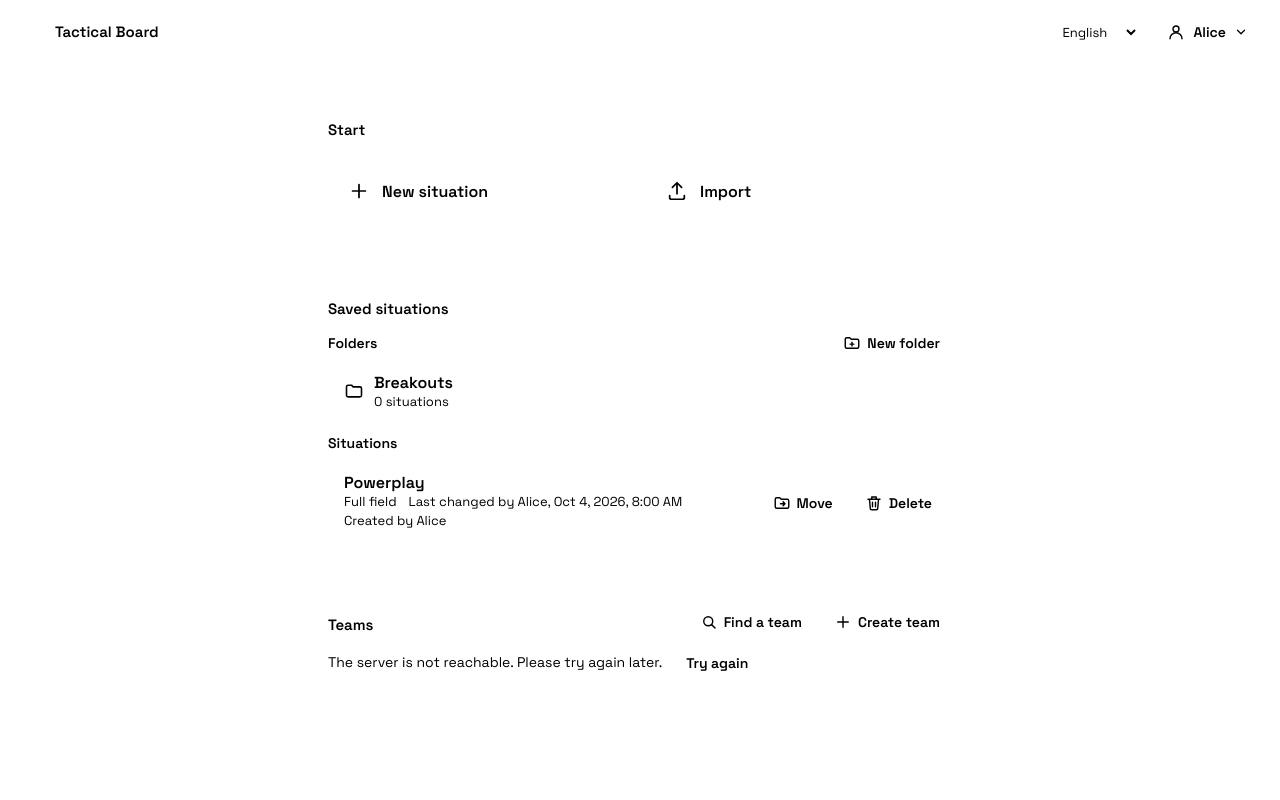
Test: start page › saved situations › moves a top-level situation into a folder with Move
Click the button with aria-label "Move “Powerplay”": [803, 502] box x1=760 y1=494 x2=845 y2=512
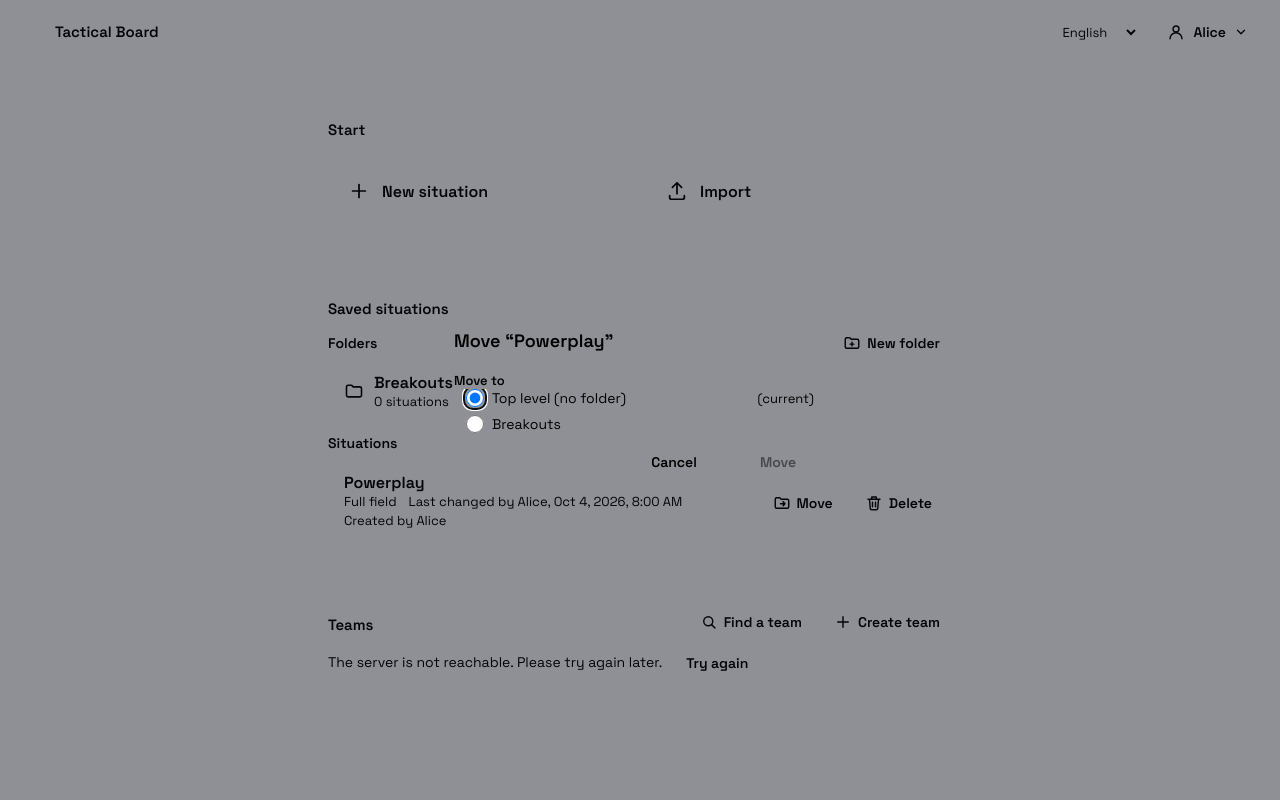
Expected: the radio button labelled "Top level (no folder) (current)" is checked, x1=466 y1=389 x2=484 y2=407
Click the radio button labelled "Breakouts": [475, 424] box x1=466 y1=415 x2=484 y2=433
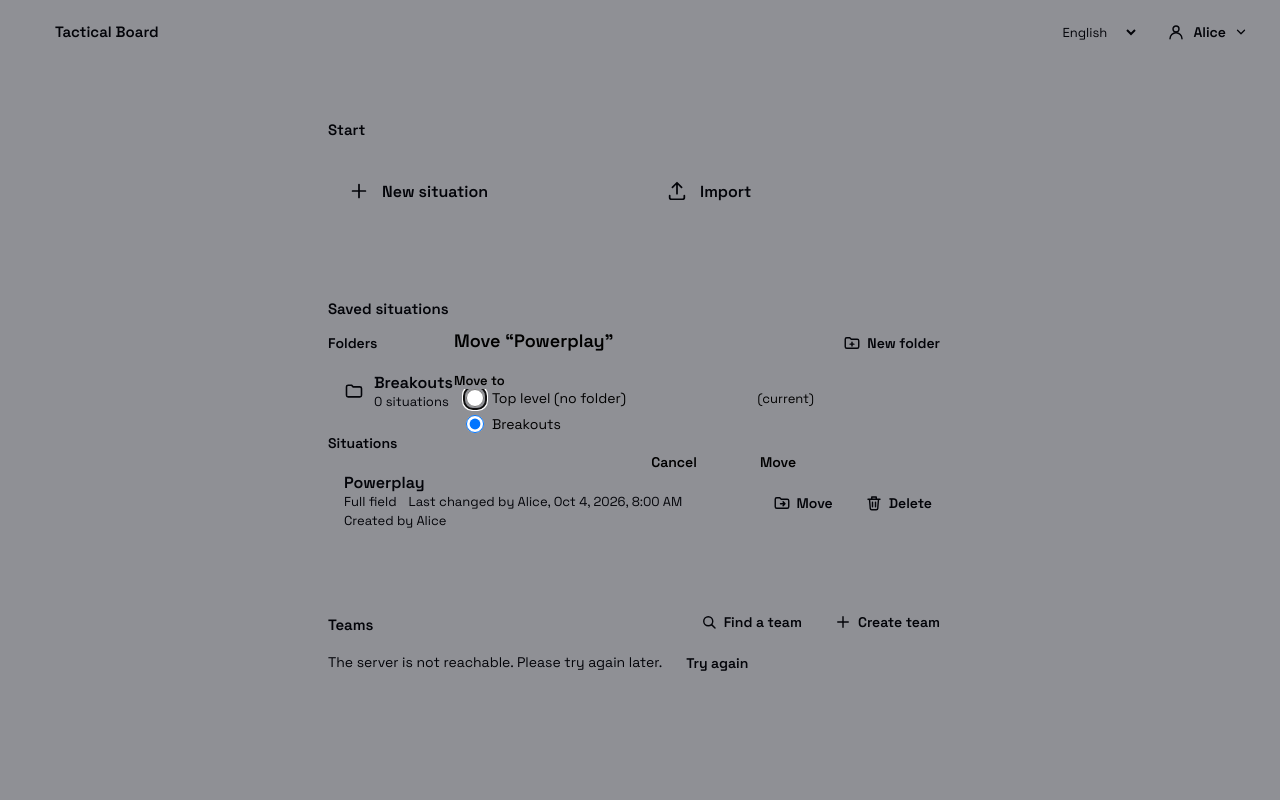
Click the button "Move": [778, 462] box x1=730 y1=453 x2=826 y2=471
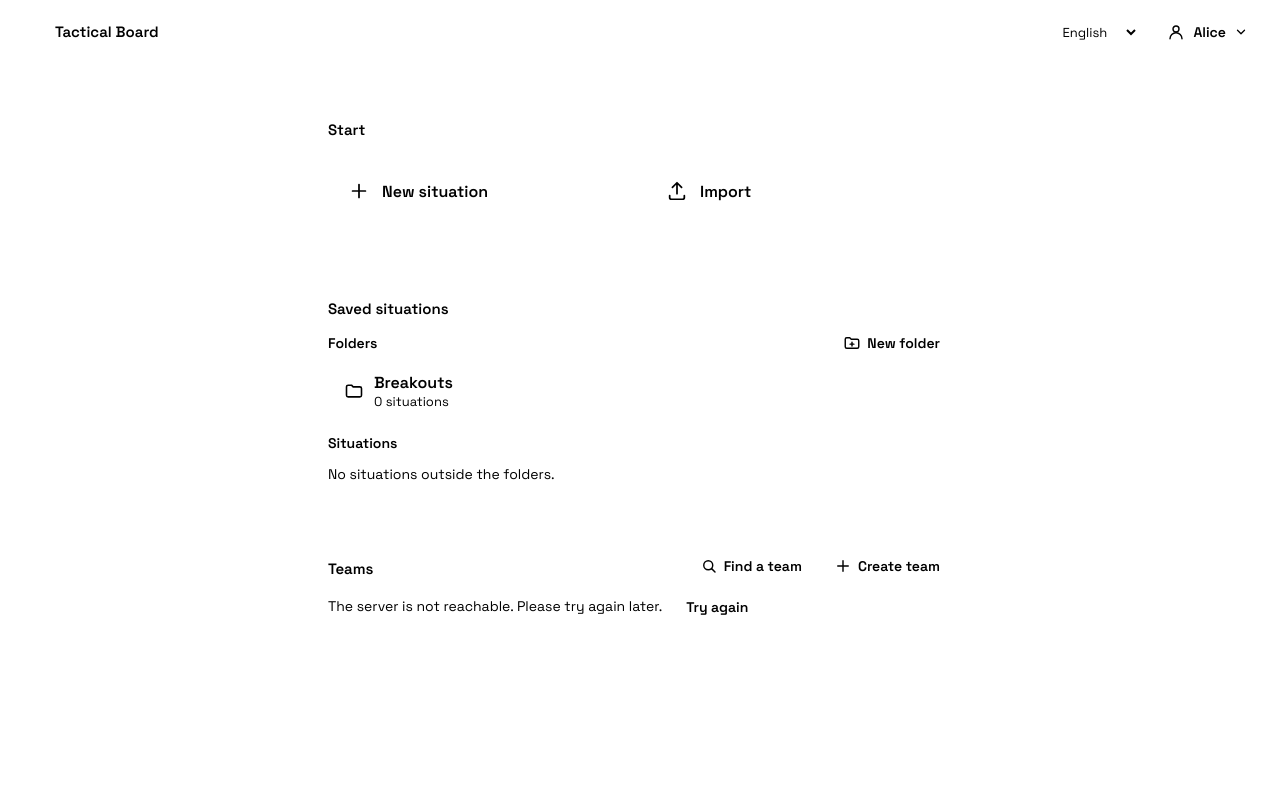
Expected: the element "Situations" shows "No situations outside the folders.", x1=328 y1=465 x2=555 y2=483
